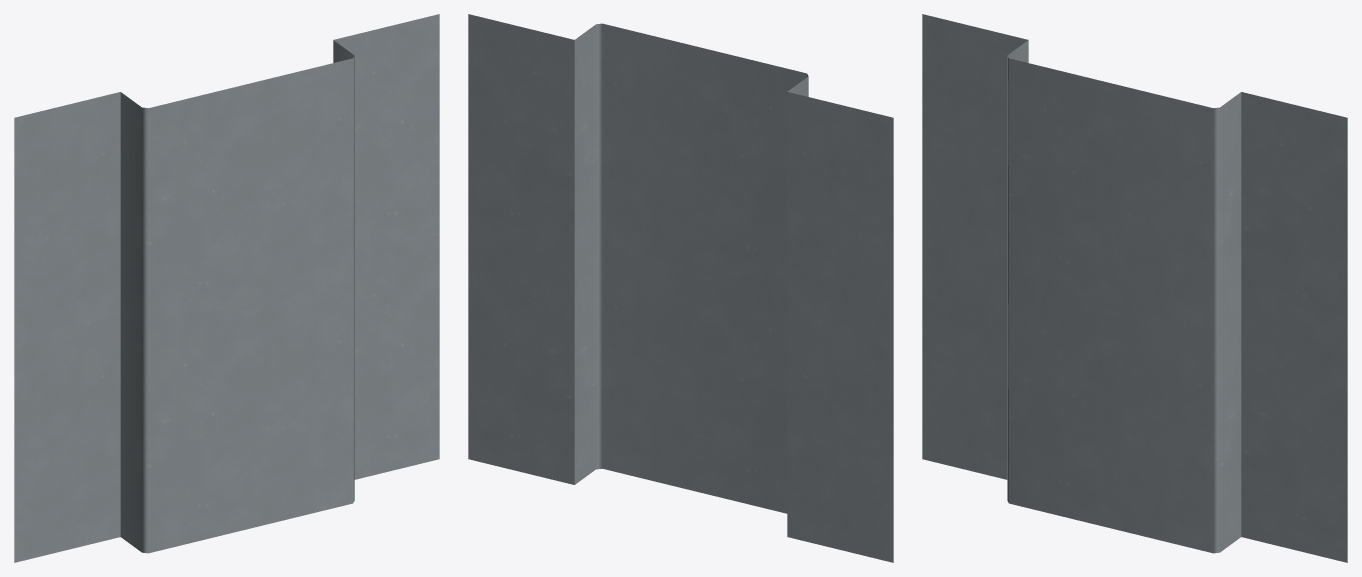
The model's file is ExteriorWallPillar.fbx.
3 renders of one model, left to right at view 1: azimuth 30°, elevation 25°; view 2: azimuth 150°, elevation 25°; view 3: azimuth 330°, elevation 25°, orthographic.
Visible parts, largest first — view 1: ExteriorWallPillar; view 2: ExteriorWallPillar; view 3: ExteriorWallPillar.
Boxes of the visible parts, x1,y1,x2,y2 form: ExteriorWallPillar: [14, 14, 439, 562]; ExteriorWallPillar: [468, 14, 893, 562]; ExteriorWallPillar: [922, 14, 1347, 562].
Size of the model in its own units: 400 by 400 by 38.69.
1 material, 1 textured.
